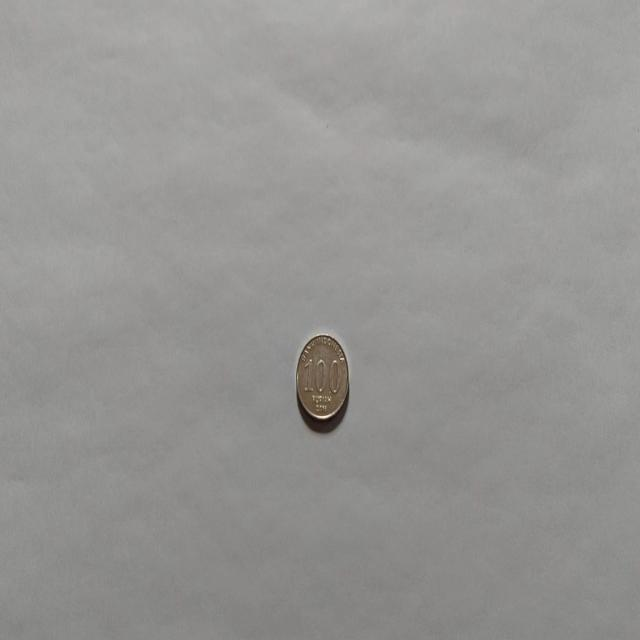seratus rupiah: (294, 332, 350, 424)
